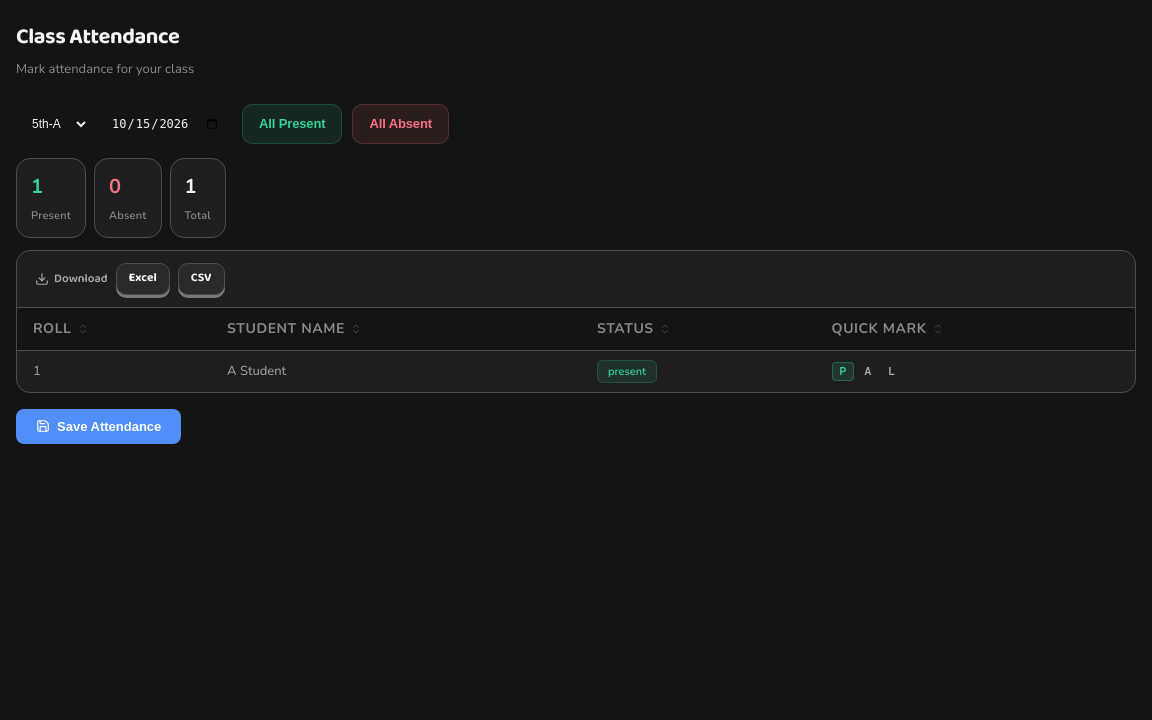
teacher attendance does not claim success when the save is refused
Click the button "Save Attendance" at (99, 426), box x1=16 y1=409 x2=181 y2=444
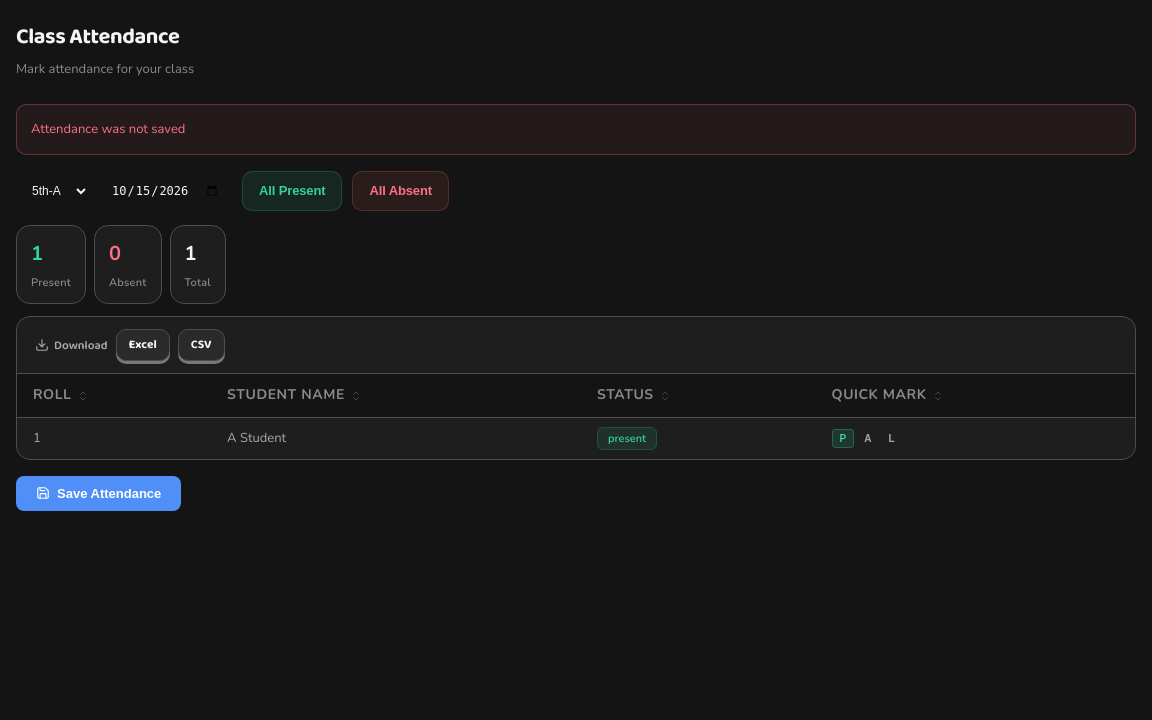
Expected: the message reads "Attendance was not saved", x1=31 y1=120 x2=185 y2=138
